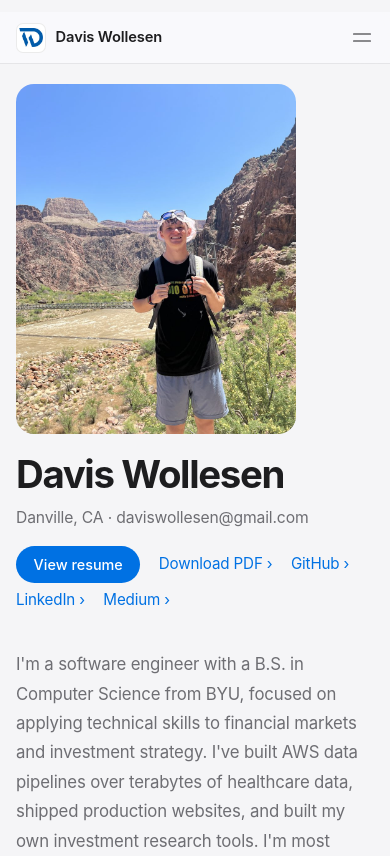
Test: phone menu opens and closes after choosing a page
Click the button named "open menu" at (362, 38), box [340,16,384,60]
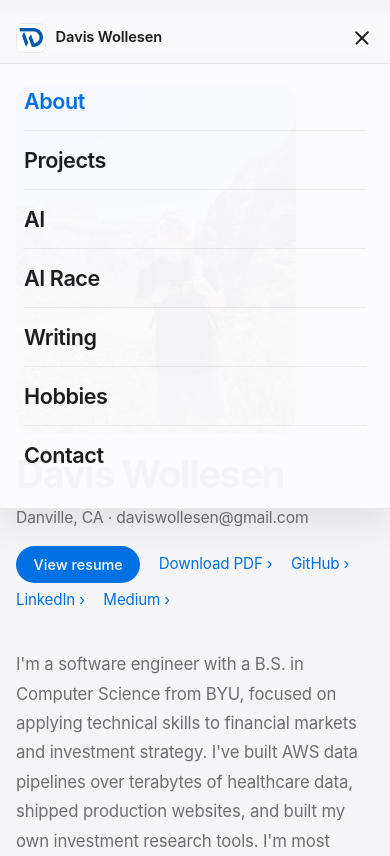
Expected: the button named "open menu" is expanded, [340,16,384,60]
Click the link "Writing" at (60, 337), box [24,308,366,367]
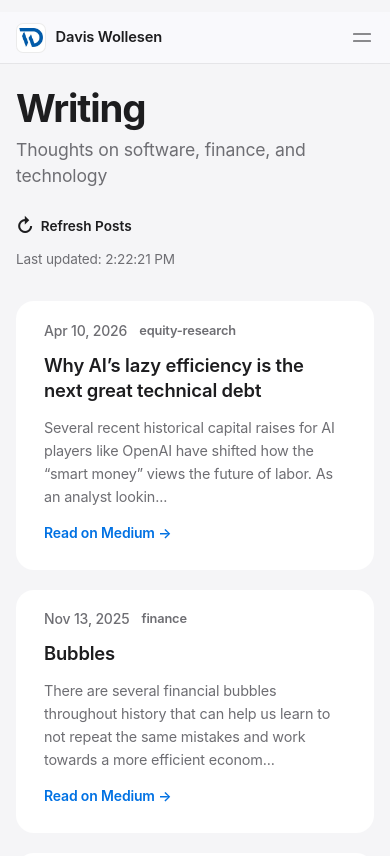
Expected: the button named "open menu" is collapsed, [340,16,384,60]
